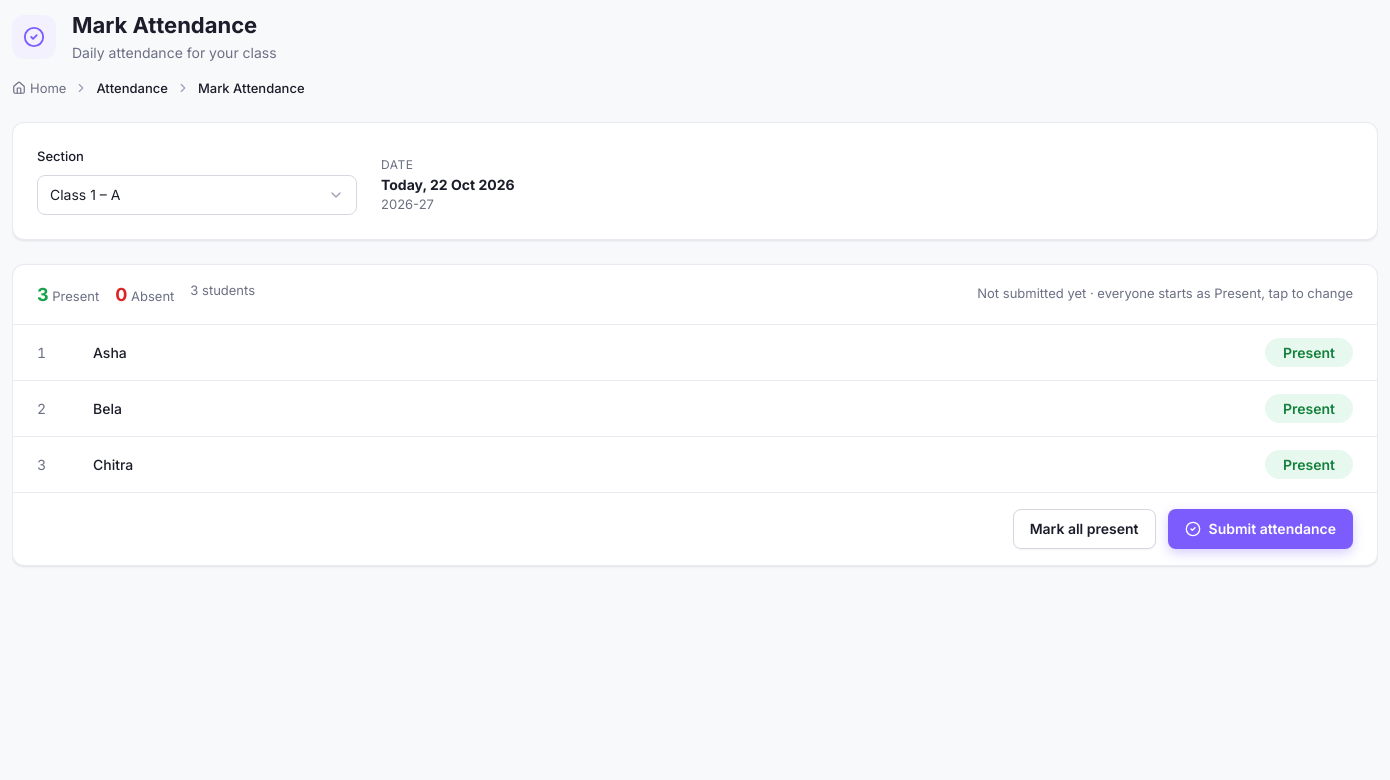
Test: MarkAttendanceComponent › submit sends the WHOLE section for the server's date in one request, then reloads the saved state
What coordinates should you click on to do the following:
click the button with class "student" showing "3 Chitra Present"
I would click on:
 (113, 464)
Its box is [13, 436, 1377, 492].
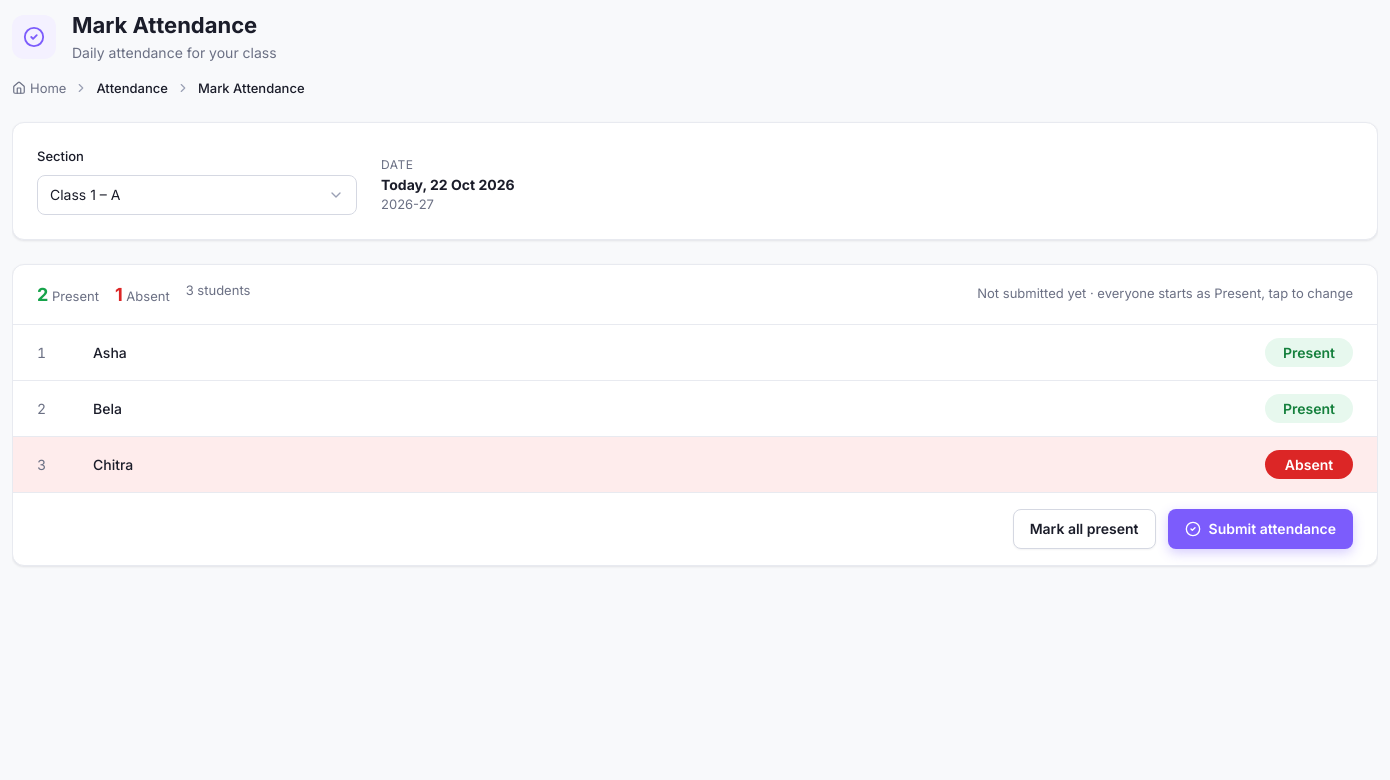
What coordinates should you click on to do the following:
click the button "Submit attendance"
I would click on:
 (1260, 528)
Its box is [1168, 508, 1353, 548].
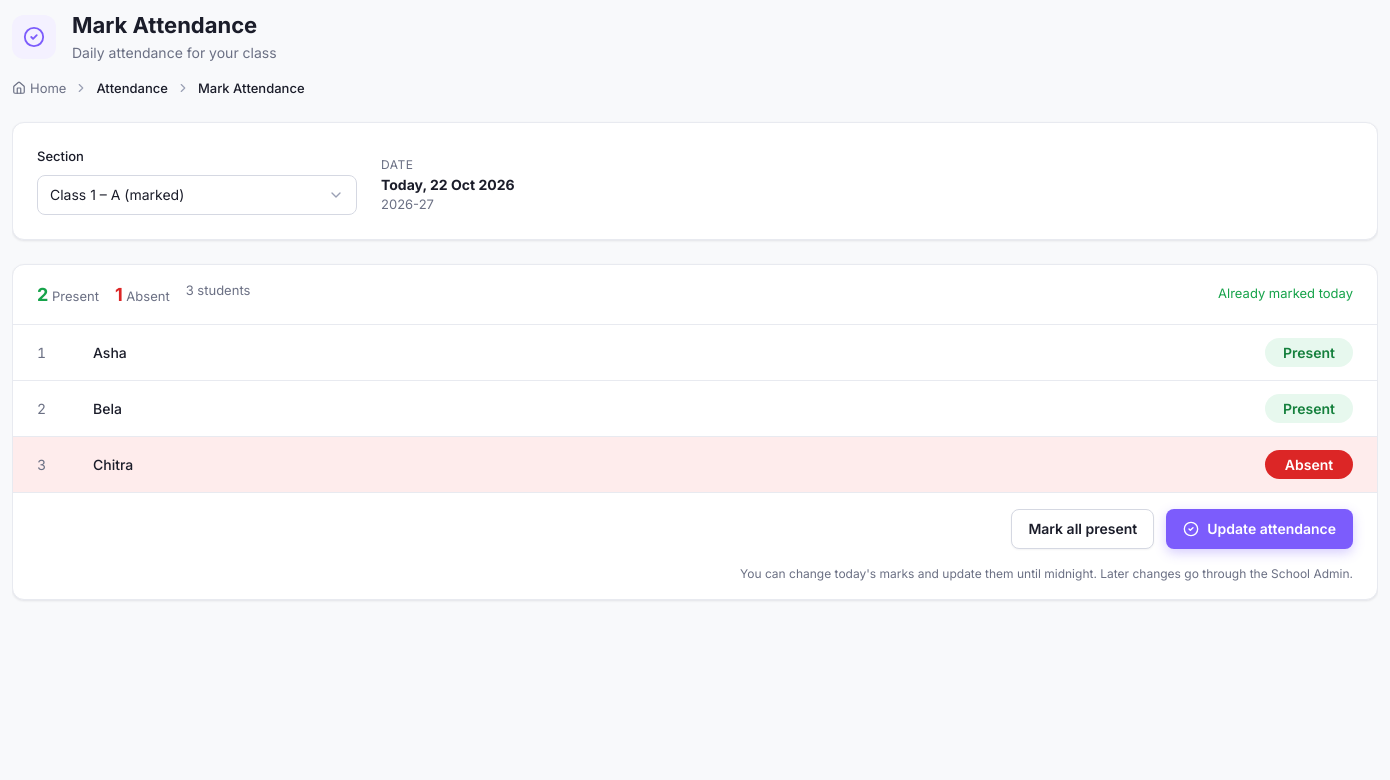
Expected: the text "Already marked today" is shown, [1218, 284, 1353, 304]
